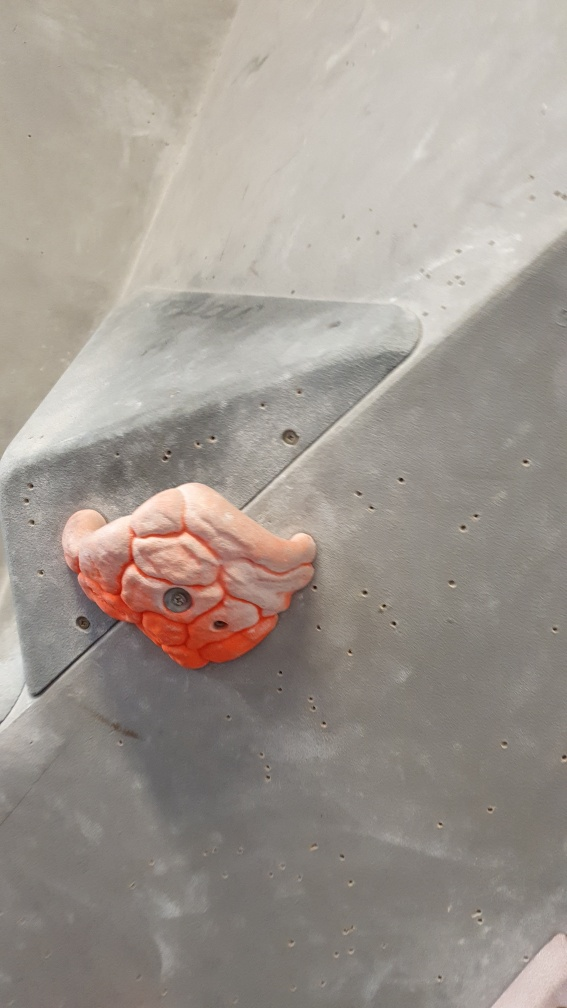Jug: (60, 478, 322, 671)
